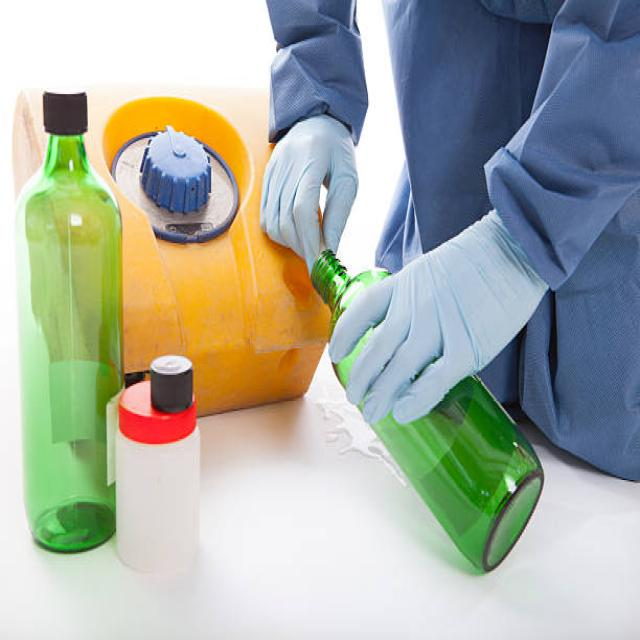gloves: (324, 206, 551, 420), (259, 108, 359, 272)
